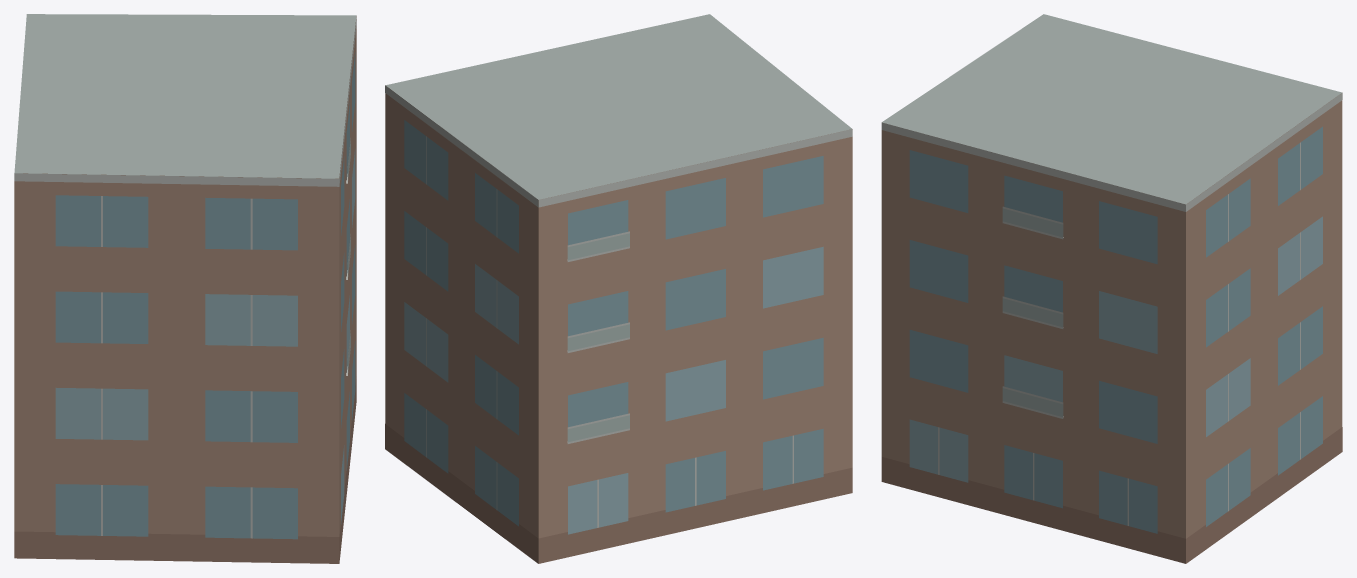
File: survey-upis-33024514.glb
The picture shows the model from 3 angles, left to right: view 1: azimuth 30°, elevation 25°; view 2: azimuth 150°, elevation 25°; view 3: azimuth 270°, elevation 25°; orthographic projection. The views are drawn at different scales.
Visible parts, largest first — view 1: survey-upis-33024514.tmp; view 2: survey-upis-33024514.tmp; view 3: survey-upis-33024514.tmp.
Part boxes in pixels (box(x1,y1,x2,y2)): survey-upis-33024514.tmp: box(14, 14, 356, 563); survey-upis-33024514.tmp: box(385, 14, 852, 563); survey-upis-33024514.tmp: box(881, 14, 1342, 563).
Size of the model in its own units: 13.2 by 11.6 by 13.49.
